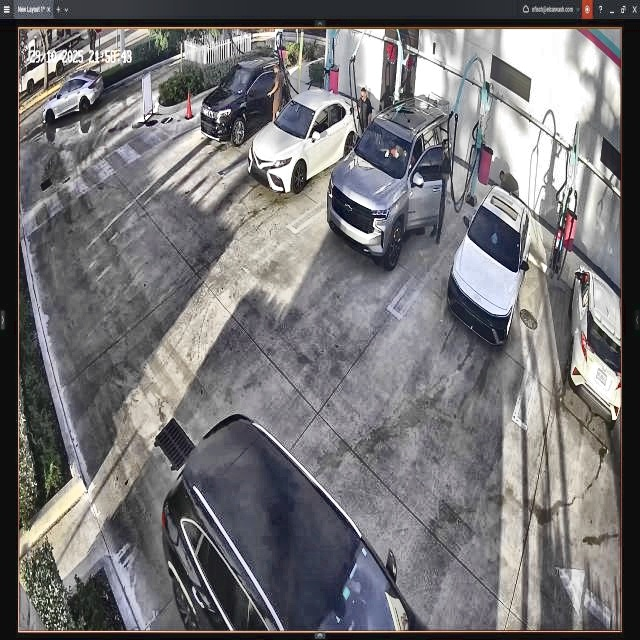Car: (157, 422, 428, 629), (332, 98, 449, 268), (448, 181, 532, 348), (248, 88, 374, 187)
